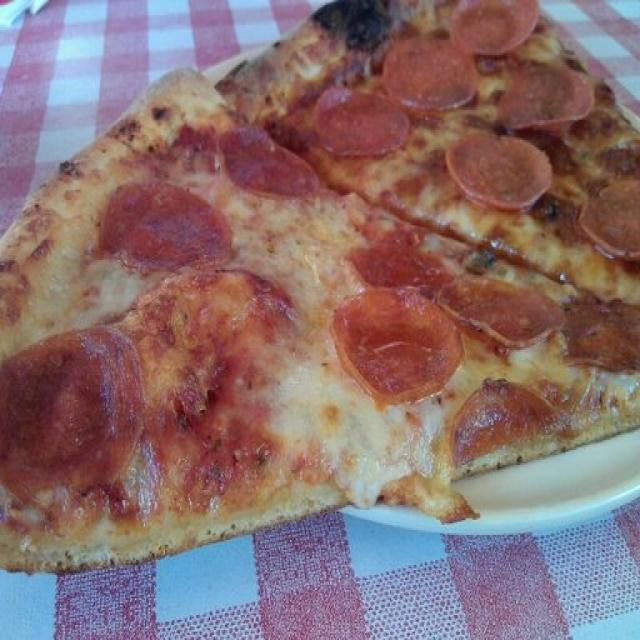Pepperoni: (5, 332, 146, 496), (337, 290, 463, 398), (109, 179, 231, 272), (448, 128, 545, 211), (448, 276, 553, 342), (221, 128, 319, 197), (392, 31, 471, 111), (320, 85, 402, 156), (512, 68, 596, 132), (458, 386, 559, 434), (581, 181, 640, 260), (356, 236, 444, 288), (453, 0, 537, 43)
Pizza: (0, 0, 640, 571)
